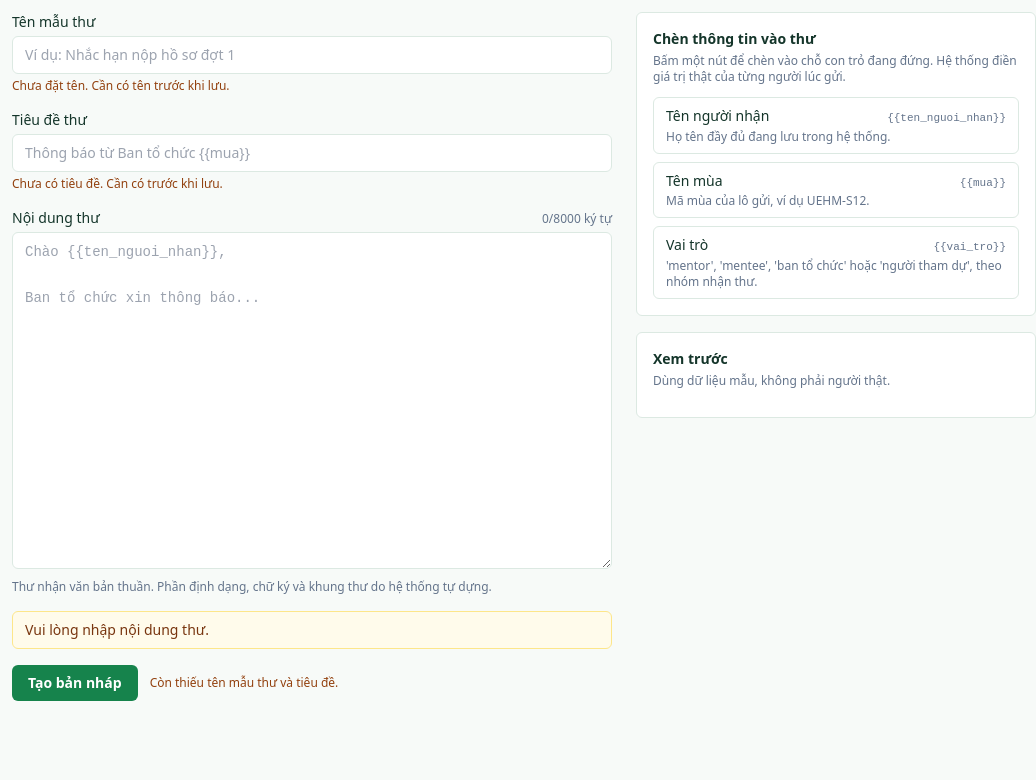
it: chèn vào đúng chỗ › chèn vào tiêu đề sau khi người soạn chạm vào tiêu đề
This screenshot has width=1036, height=780.
Type "Thông báo " into the field labelled "Tiêu đề thư" at [312, 153], box top-left (12, 134), bottom-right (612, 172)
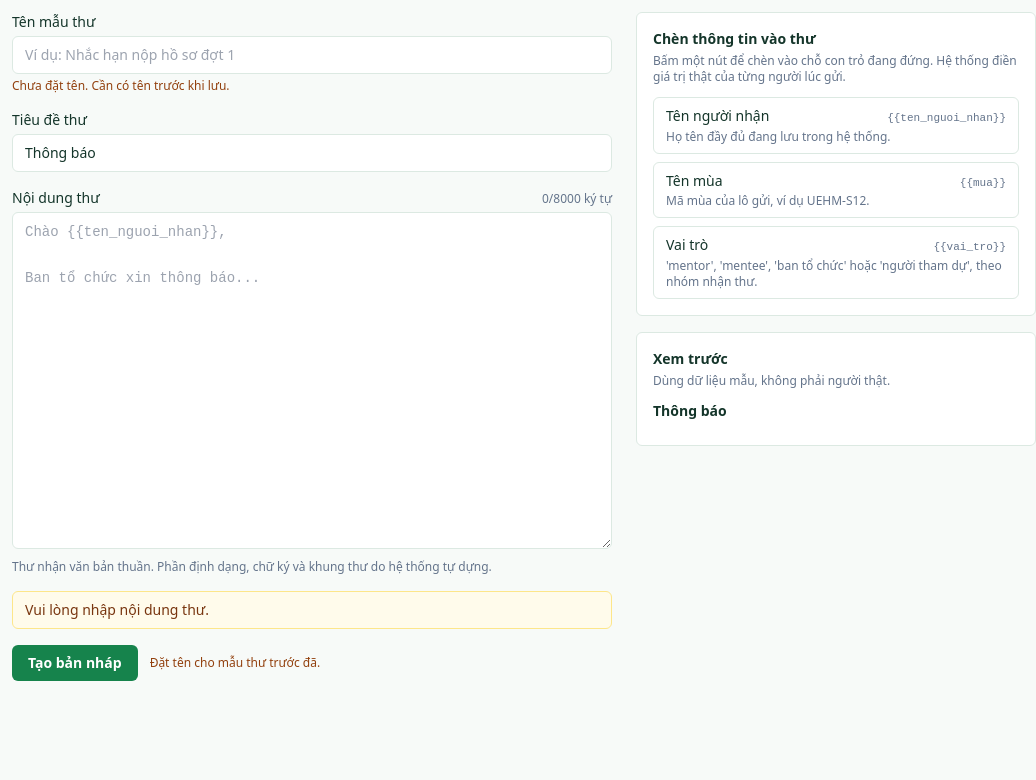
Click the button "Tên mùa {{mua}} Mã mùa của lô gửi, ví dụ UEHM-S12." at [836, 190], box top-left (653, 162), bottom-right (1019, 218)
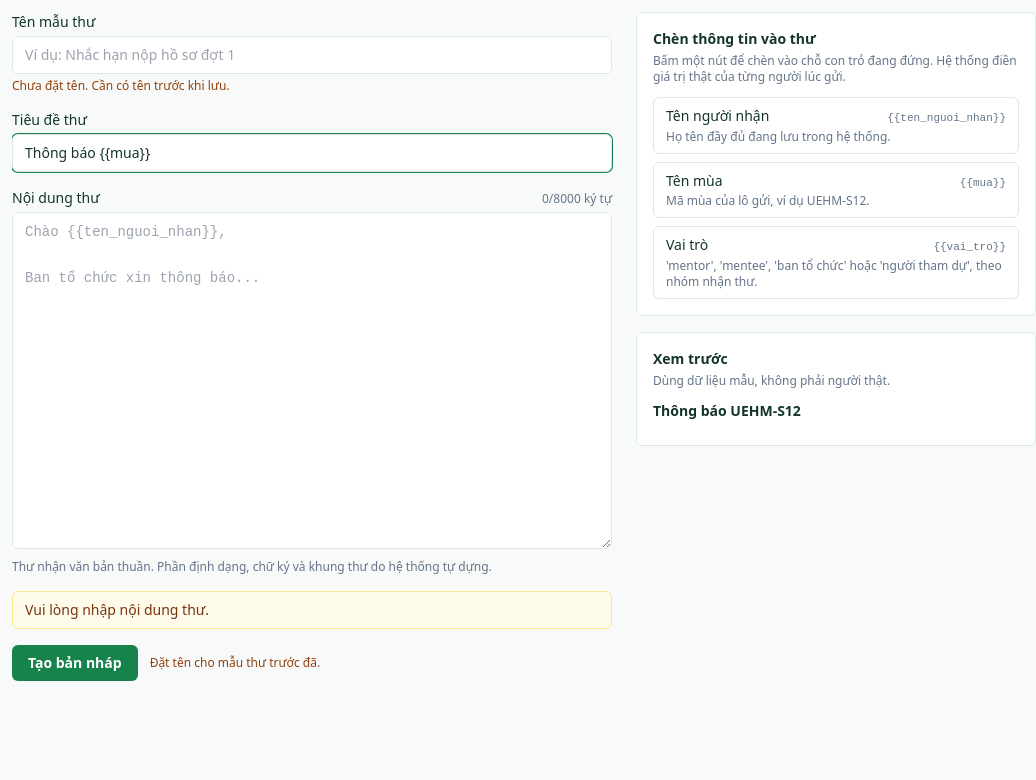
Expected: the text box labelled "Nội dung thư" is empty, top-left (12, 212), bottom-right (612, 548)
Expected: the field labelled "Tiêu đề thư" holds "Thông báo {{mua}}", top-left (12, 134), bottom-right (612, 172)
